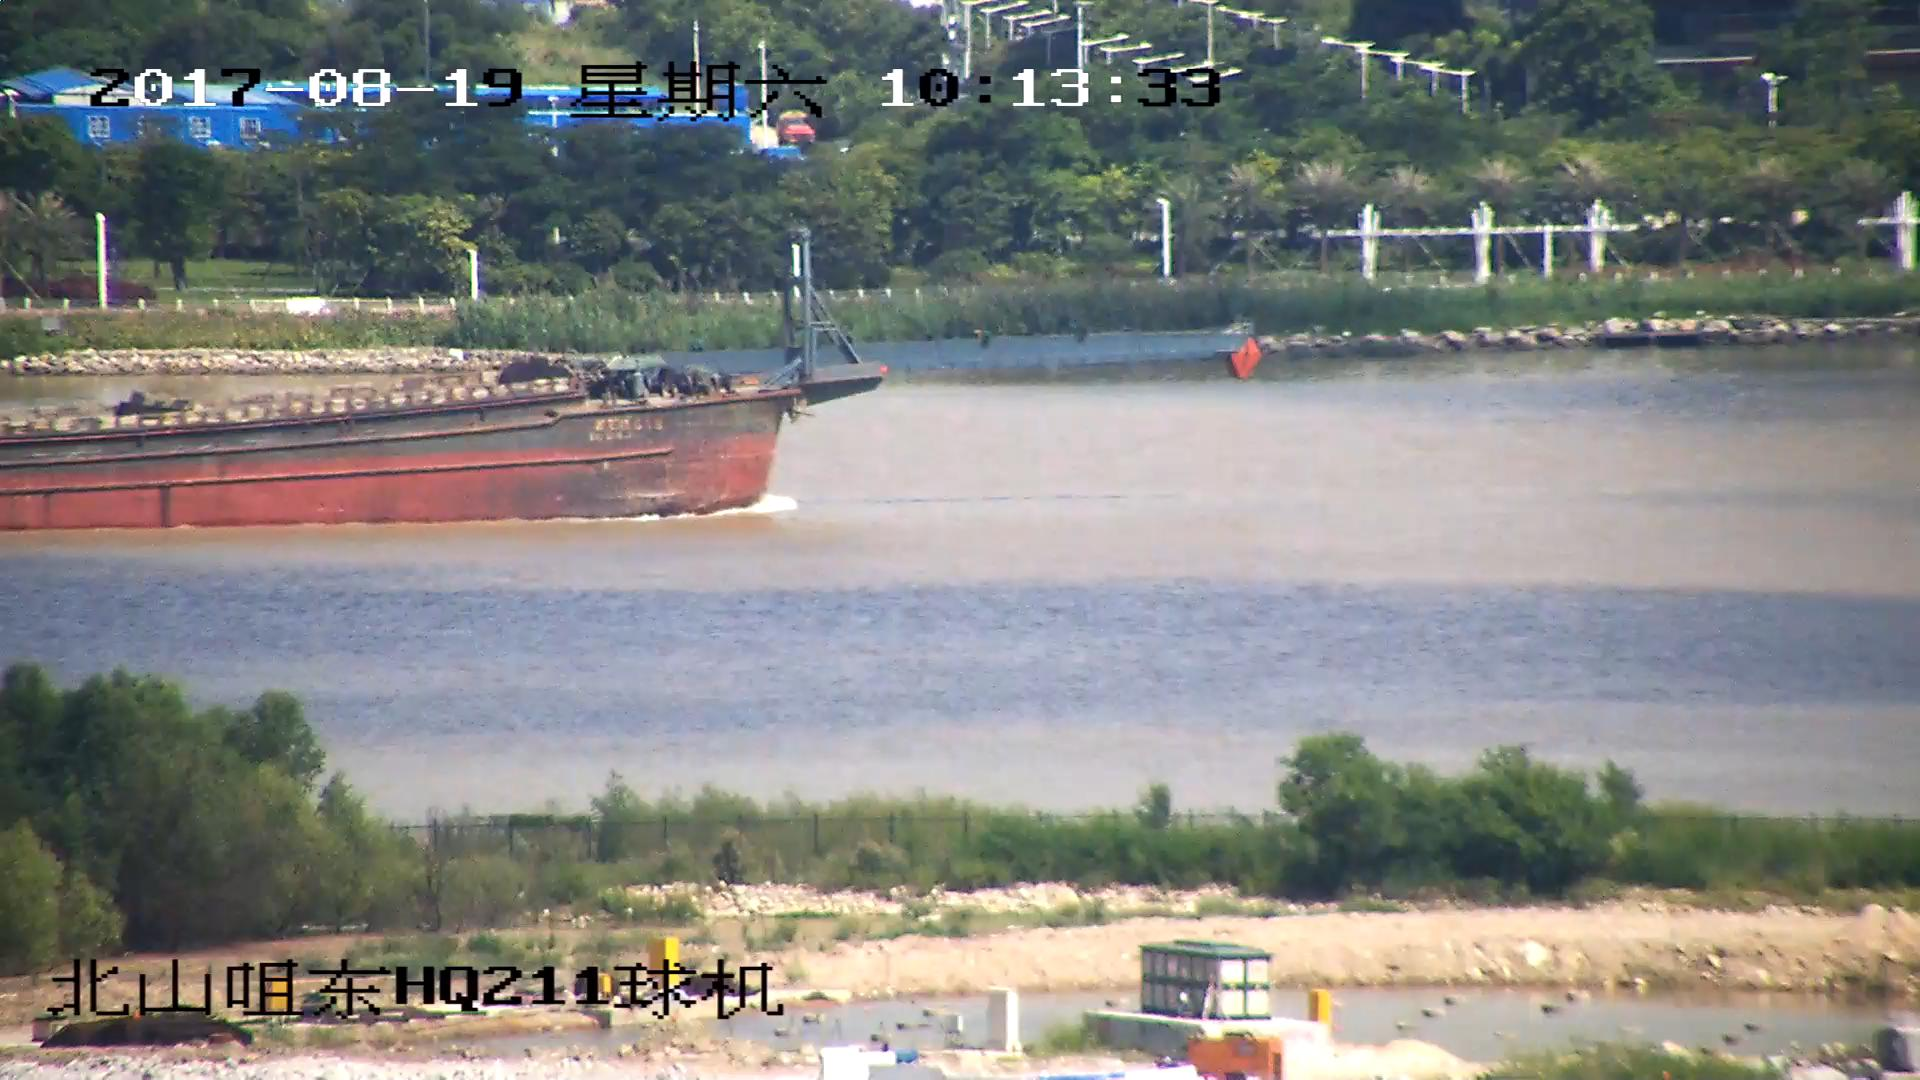bulk cargo carrier: (1, 228, 1258, 532)
